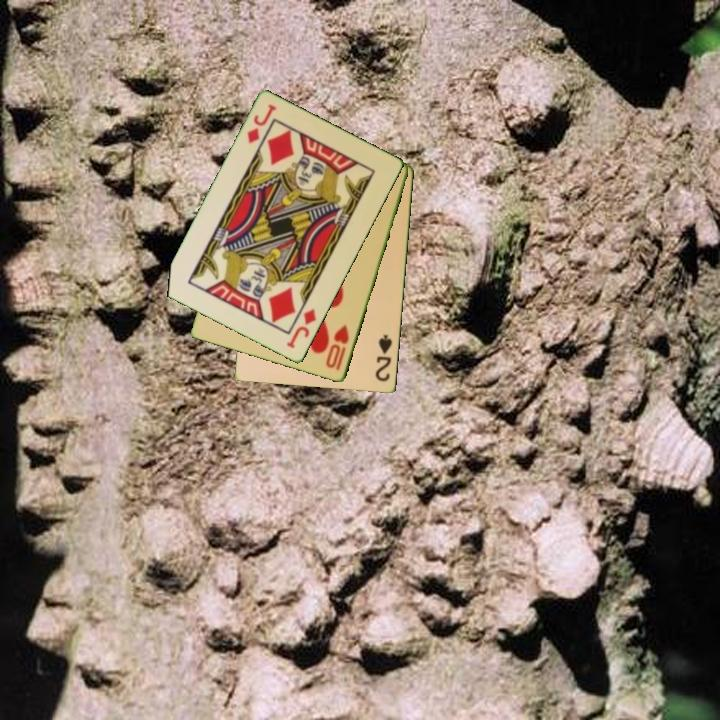10h: (322, 322, 352, 374)
2s: (372, 331, 395, 385)
Jd: (283, 305, 319, 352), (244, 101, 279, 147)
